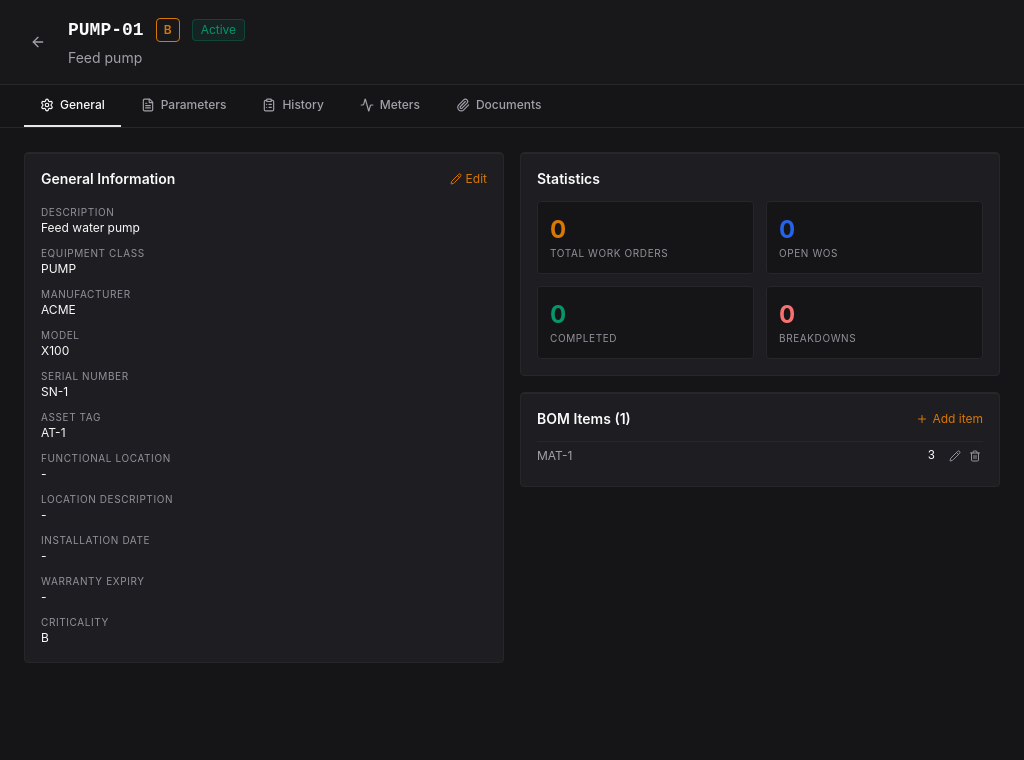
EquipmentDetailPage master-data edit (G4) › surfaces the API rejection and keeps the form open
Step 1. Click the button "Edit" → [468, 179], box [450,171,487,187]
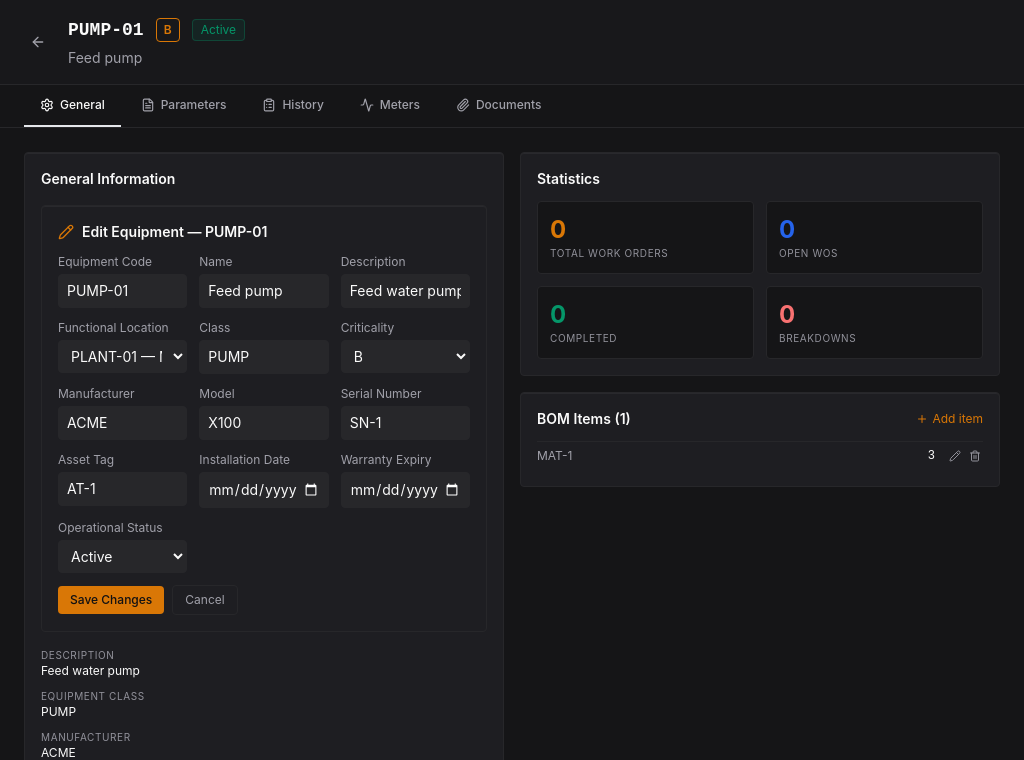
Step 2. Click the button "Save Changes" → [111, 600], box [58,586,164,614]
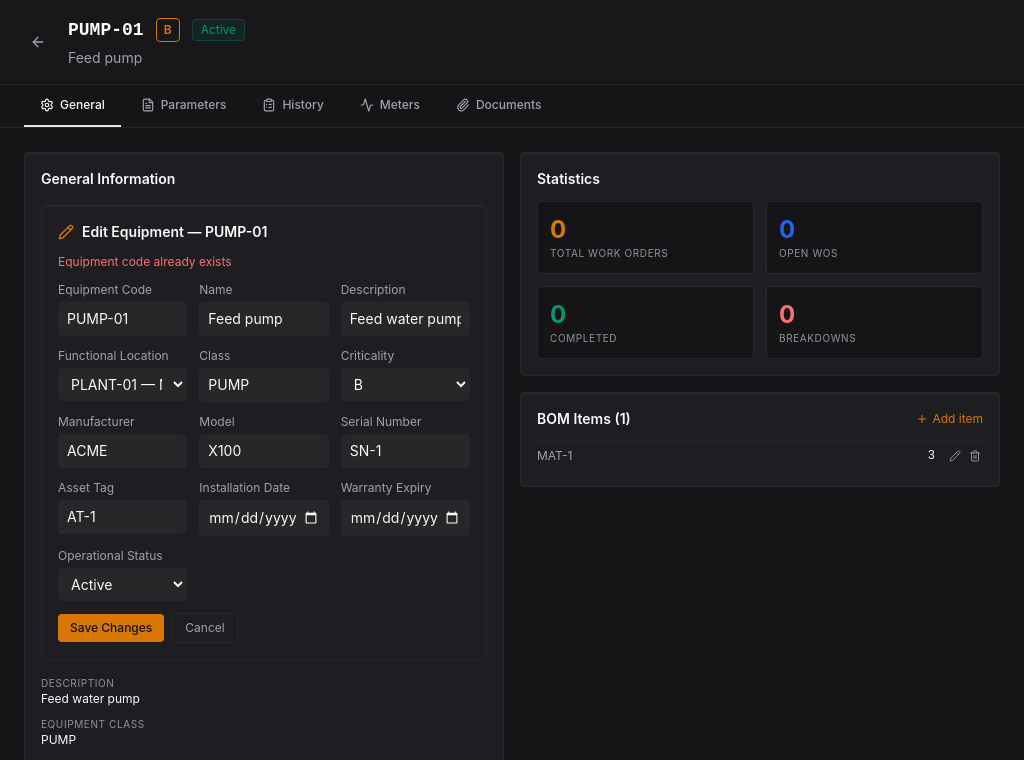
Expected: the button "Save Changes" is shown, [58,614,164,642]
Expected: the message reads "Equipment code already exists", [58,254,232,269]
